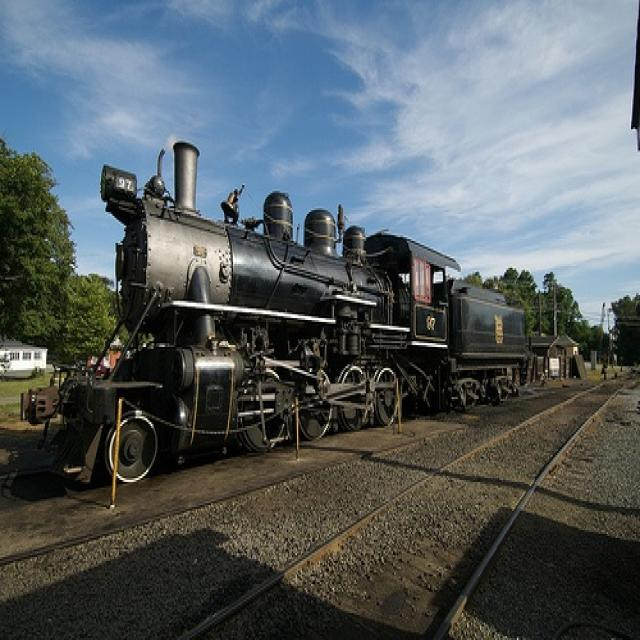train: (19, 140, 528, 487)
